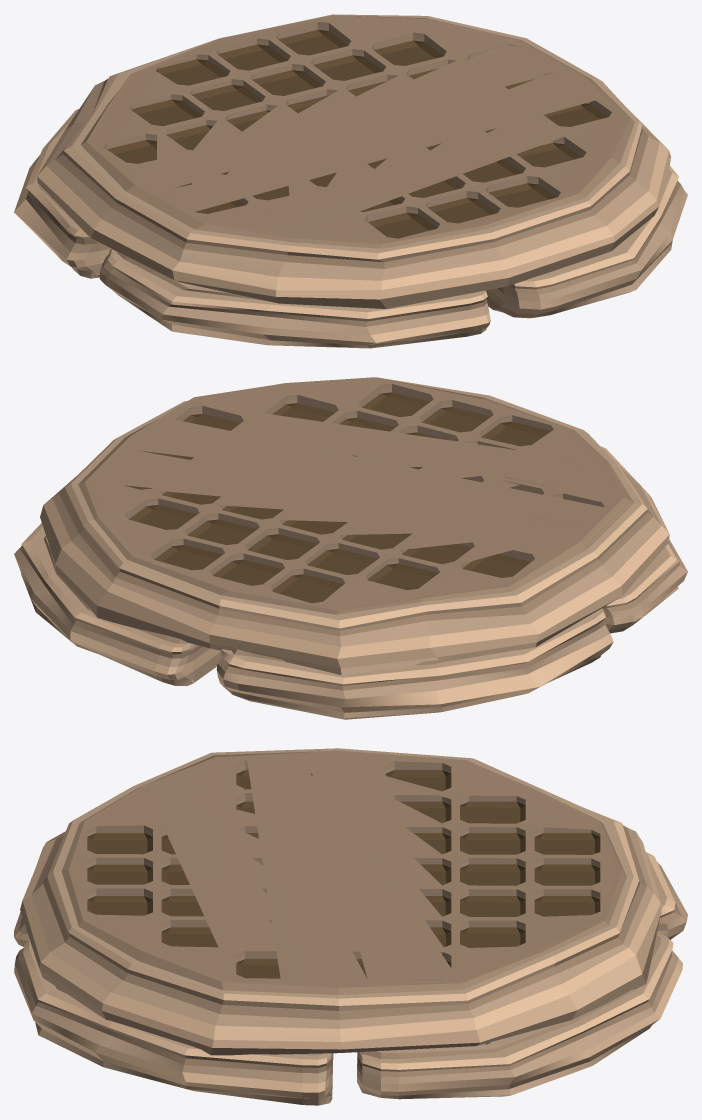
File: Waffle (6).fbx
The picture shows the model from 3 angles, top to bottom: view 1: azimuth 30°, elevation 25°; view 2: azimuth 150°, elevation 25°; view 3: azimuth 270°, elevation 25°; orthographic projection. The views are drawn at different scales.
Parts seen in each view (by area): view 1: waffletop; view 2: waffletop; view 3: waffletop.
Boxes of the visible parts, x1,y1,x2,y2 form: waffletop: (14,14,687,348); waffletop: (14,377,687,719); waffletop: (14,748,687,1105).
Bounding box in the file's own units: 911 × 153 × 904.
